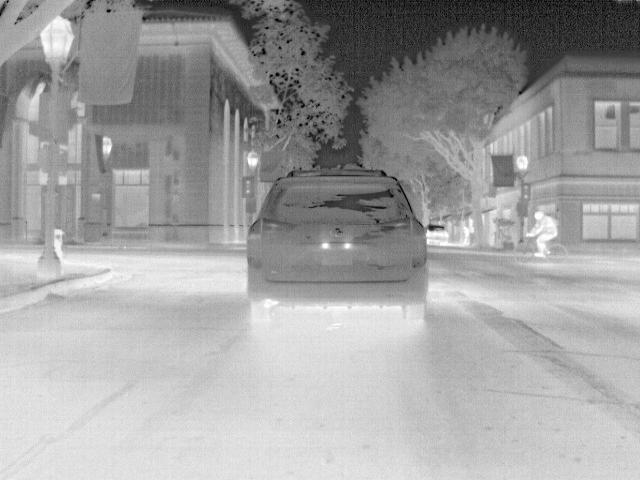car: (247, 164, 430, 324), (425, 222, 453, 247)
person: (527, 209, 560, 260)
